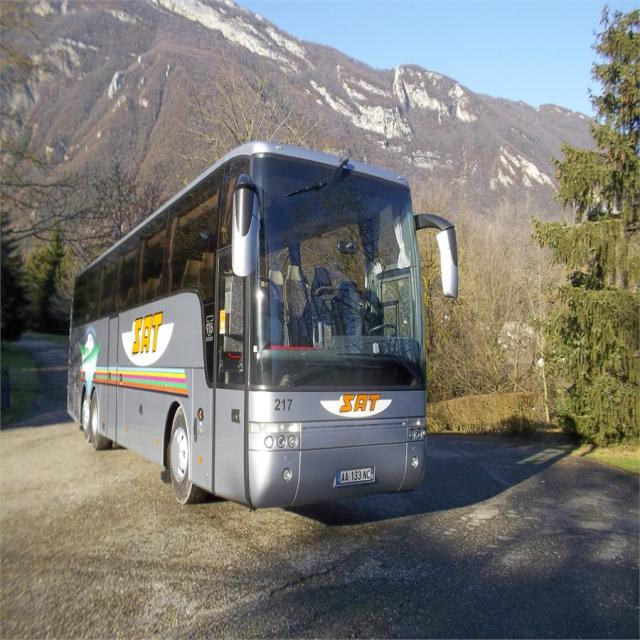Bus: (67, 140, 458, 508)
